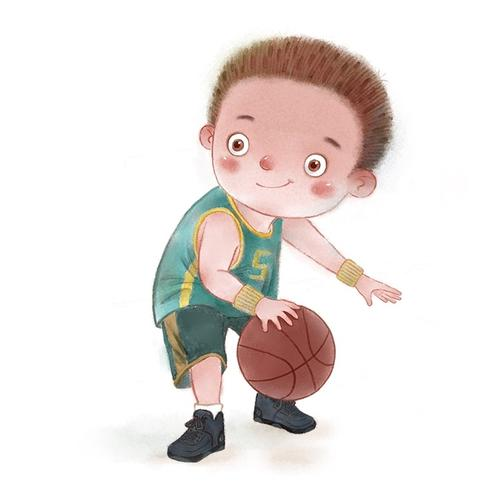ball: (236, 303, 338, 401)
